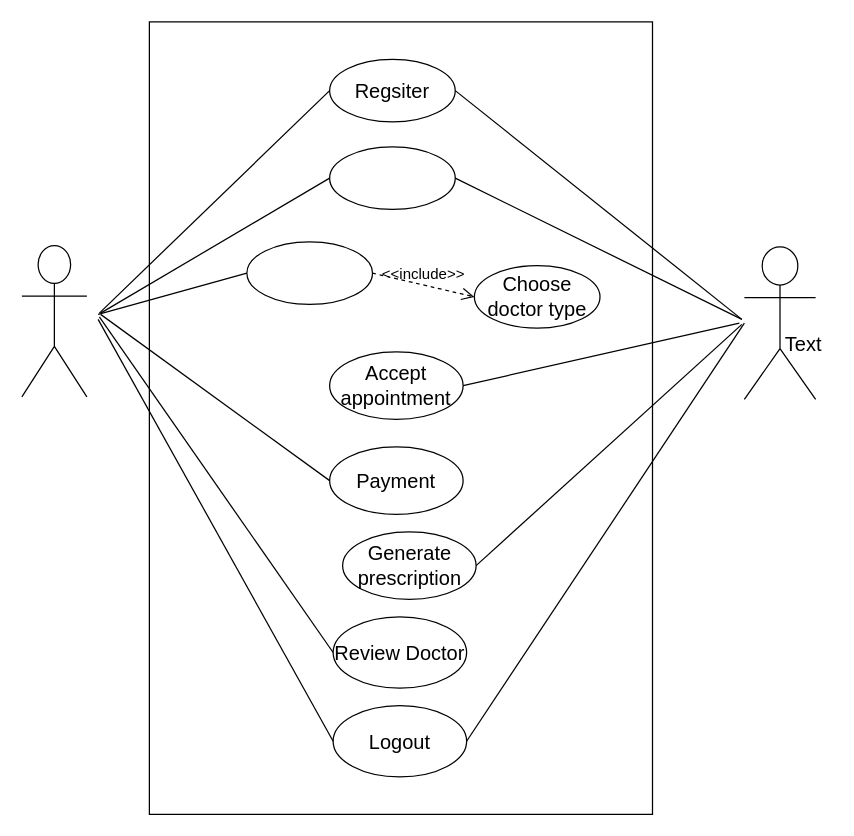
This 854x836 diagram has some shape labels left out. The box of each missing label's shape, as (x1, y1, x2, y2) in pixels:
Book Appointment: (246, 241, 372, 304)
Doctor: (743, 246, 816, 399)
Login: (328, 146, 455, 209)
User: (21, 244, 87, 397)
